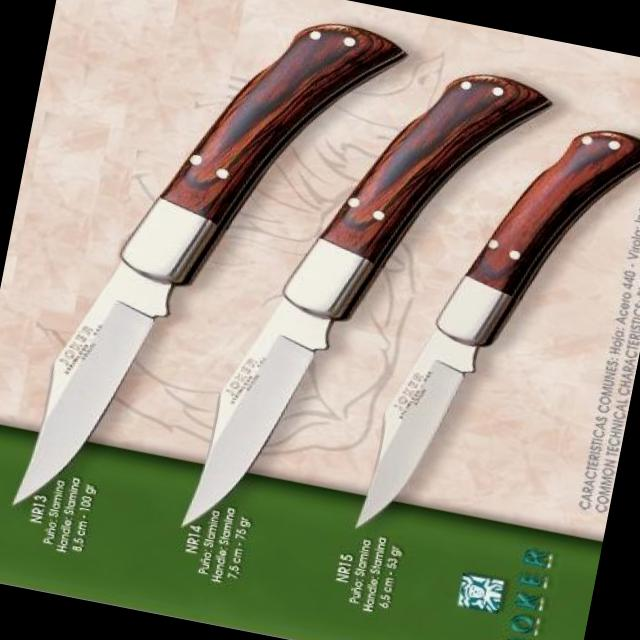knife: (2, 247, 182, 533), (171, 279, 350, 556), (347, 314, 507, 554)
